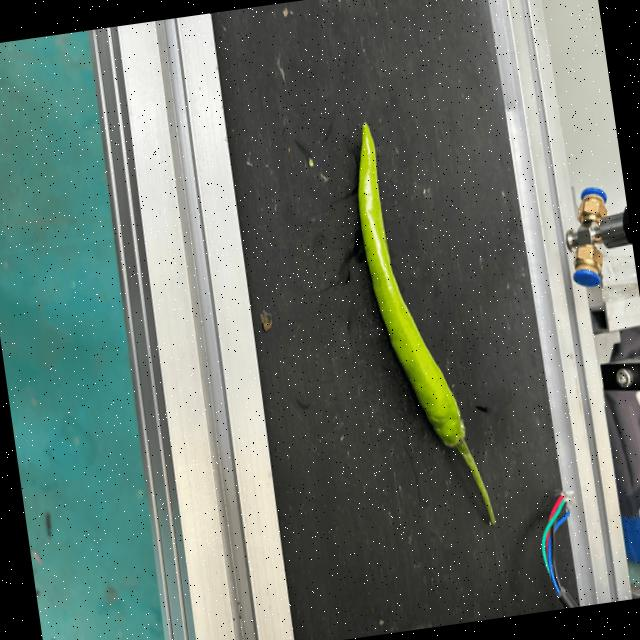chili: (354, 120, 467, 450)
